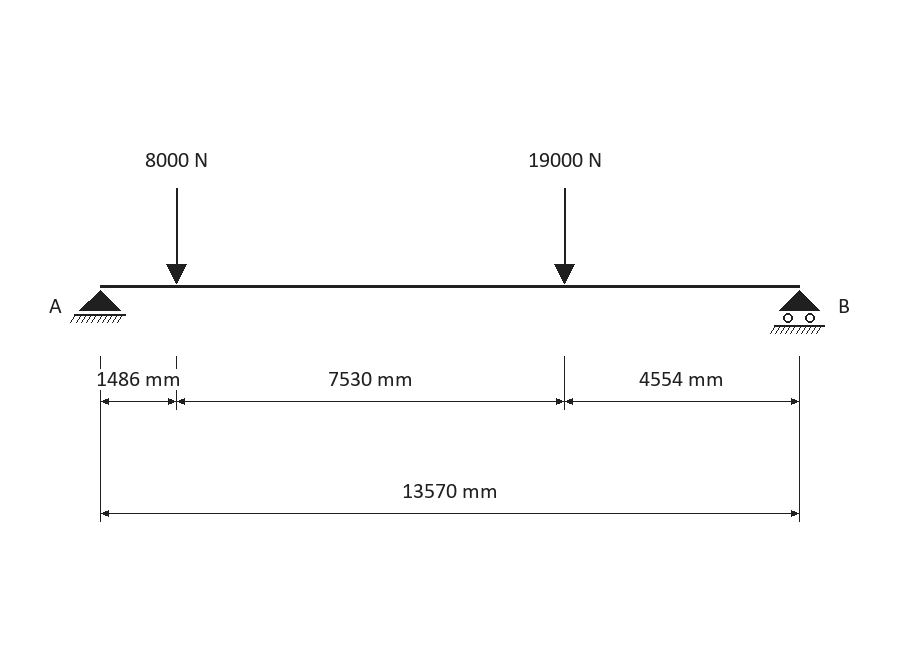pin_support: (70, 290, 126, 323)
point_load: (166, 188, 187, 284), (554, 188, 575, 284)
roller_support: (770, 290, 825, 334)
